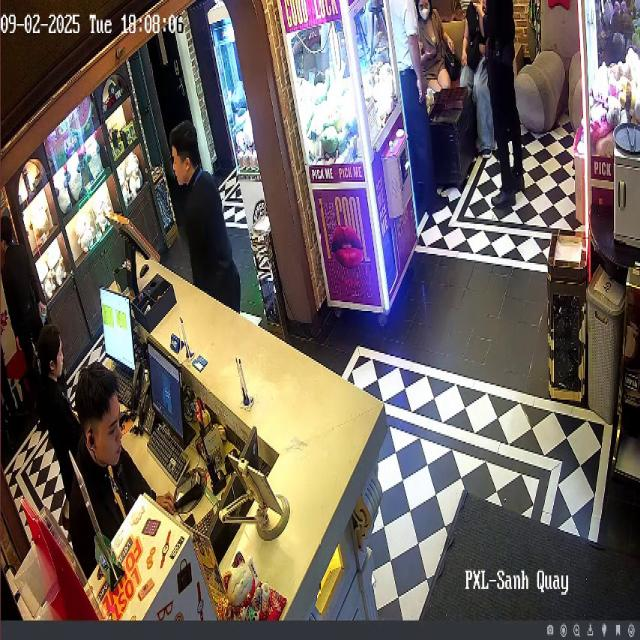khach: (385, 0, 458, 217), (407, 0, 457, 114), (458, 0, 494, 158)
nhan vien: (167, 92, 254, 330), (70, 356, 116, 598), (36, 331, 86, 542), (477, 0, 523, 221), (2, 199, 44, 420)
